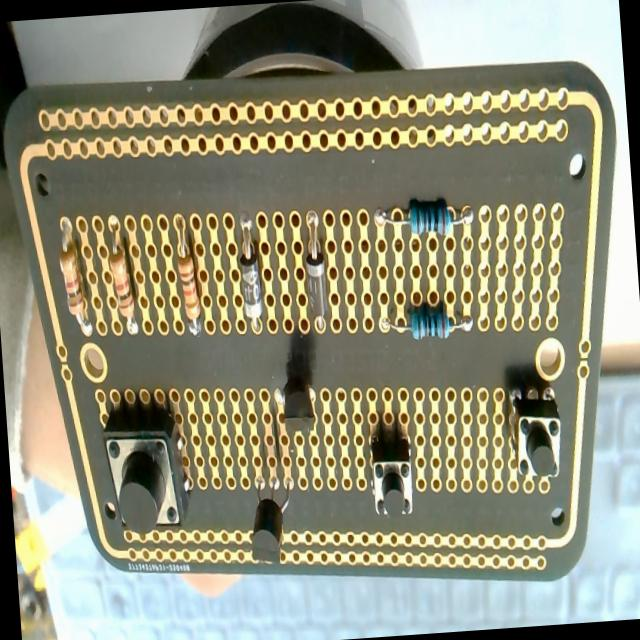diode: (300, 205, 330, 328), (235, 210, 264, 332)
resistor: (376, 196, 474, 238), (58, 217, 92, 338), (383, 297, 473, 342), (174, 215, 204, 337), (106, 225, 137, 334)
switch: (100, 393, 198, 540), (508, 383, 565, 484), (367, 422, 416, 520)
transistor: (246, 471, 296, 568), (276, 381, 320, 444)
